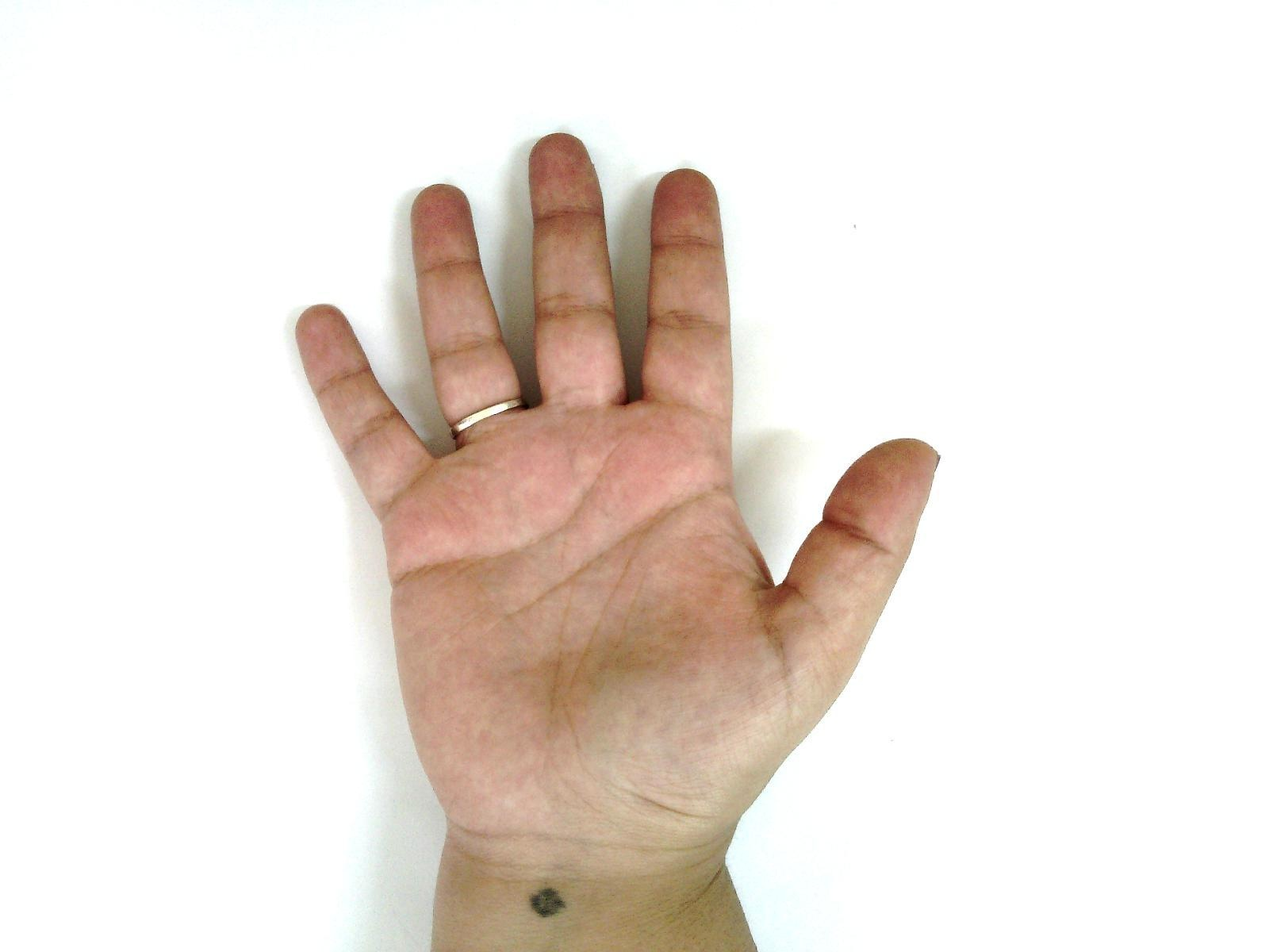open_palm: (291, 131, 948, 857)
